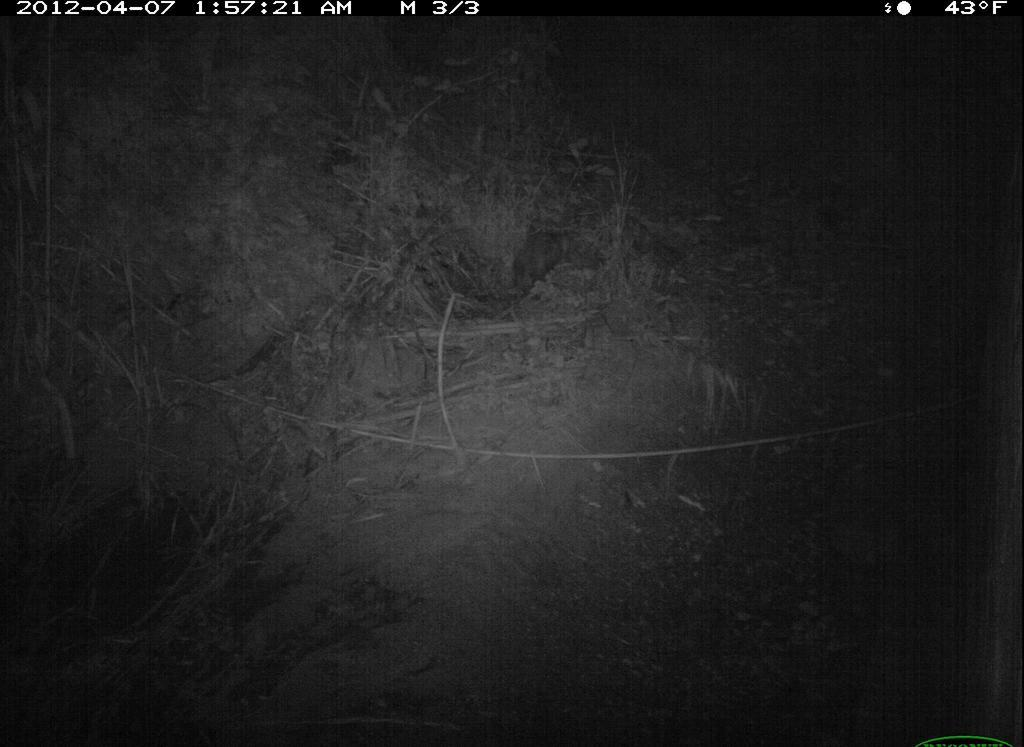opossum: (500, 225, 577, 308)
